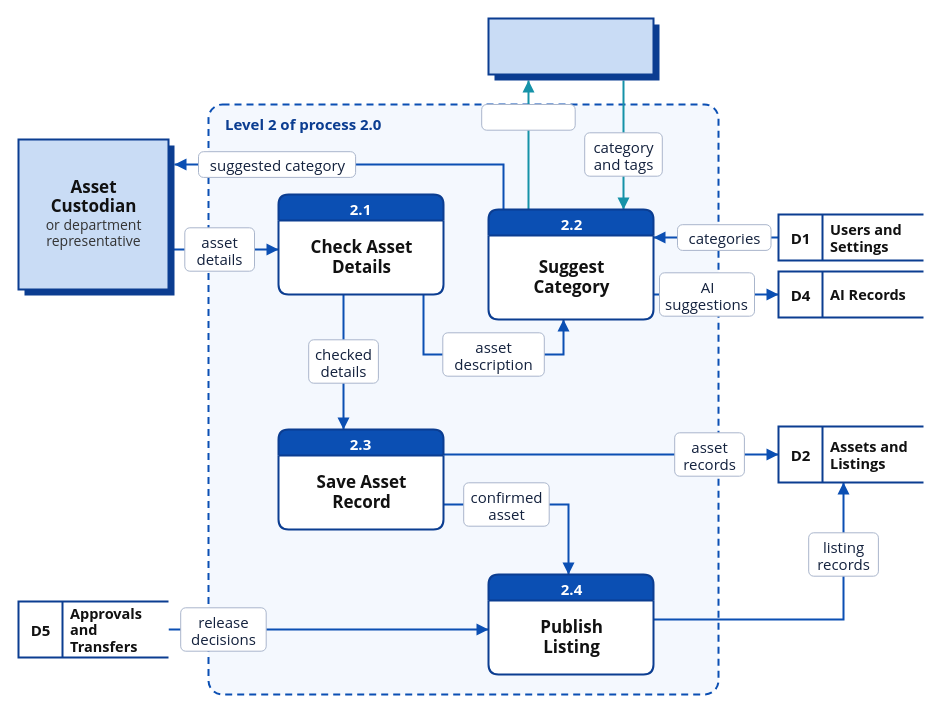
Some shapes in this 942 by 712 pixel diagram are drawn without their labels. The centre of each missing label's shape, as x and y in pixels:
AI Provider: the point at 570,46
asset text: the point at 528,117
